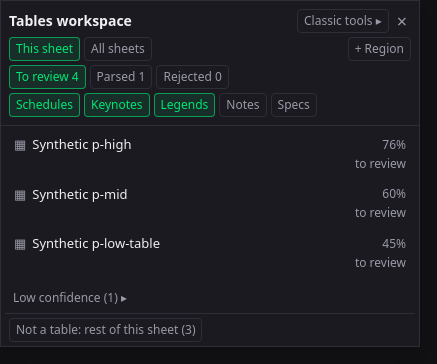
Test: inbox › All sheets offers no bulk reject (there is no single sheet on screen)
The image size is (437, 364).
Expected: the list named "Inbox" is shown, [5,130,415,276]
Click the button "All sheets" at (118, 49), box [84,37,152,61]
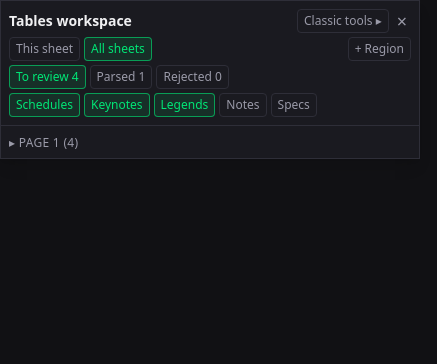
Result: the list named "Inbox by sheet" is shown at [5,130,415,154]
Result: the button "Not a table: rest of this sheet" is gone
